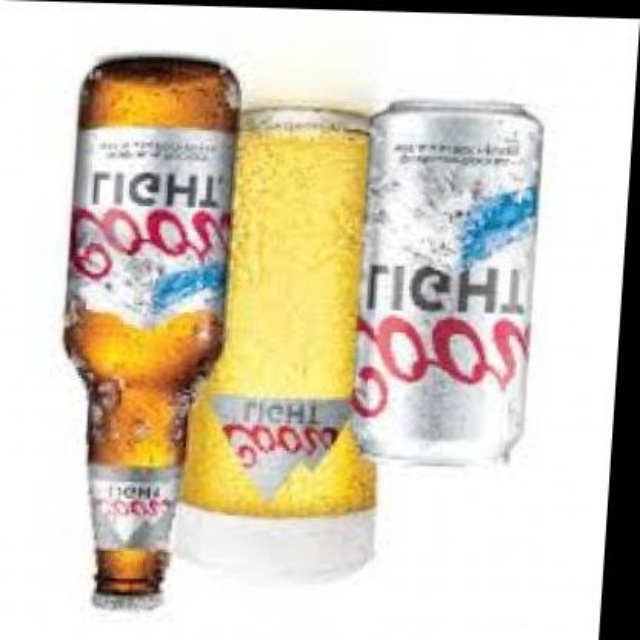trash: (65, 57, 238, 595), (177, 106, 374, 577), (354, 100, 542, 462)
